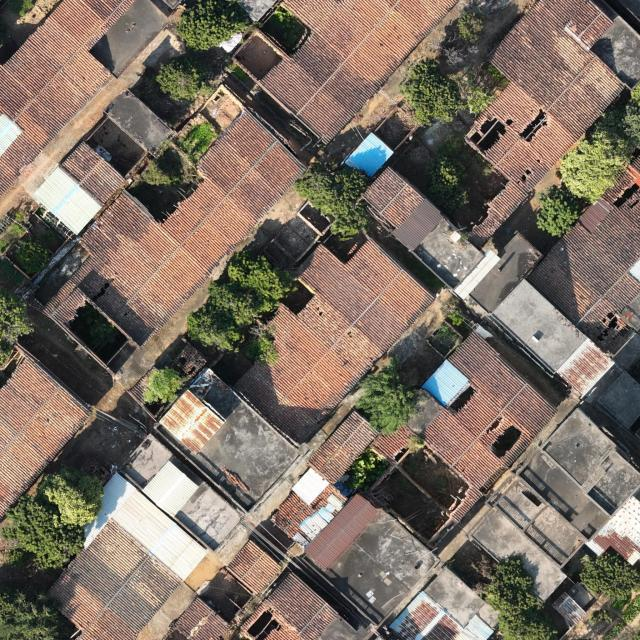Tree: (0, 493, 86, 572), (484, 555, 563, 640), (294, 160, 368, 238), (559, 129, 631, 205), (354, 356, 418, 436), (398, 56, 460, 128), (38, 465, 102, 528), (175, 0, 249, 52), (207, 279, 274, 329), (228, 250, 294, 300), (0, 587, 60, 640), (578, 552, 640, 601), (187, 305, 246, 354), (155, 61, 218, 102), (536, 184, 580, 238), (0, 285, 34, 343), (142, 365, 186, 407), (457, 9, 485, 43)
